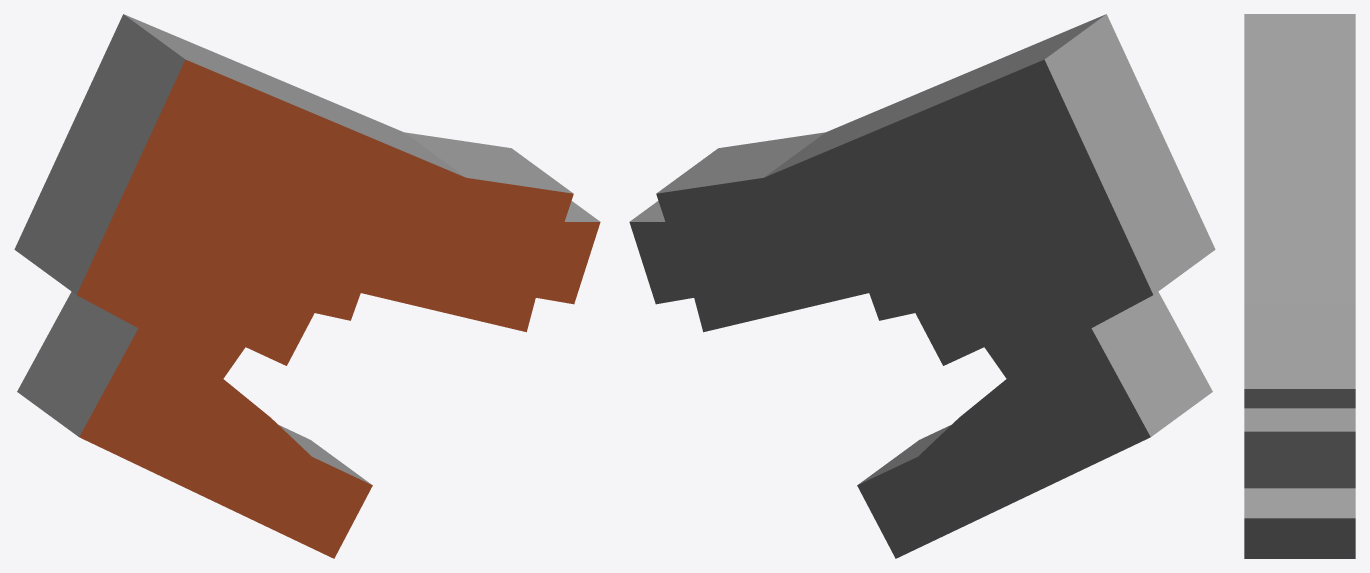
The model's file is construction_1963_assumed_A_Casa_h6m.obj.
3 renders of one model, left to right at view 1: azimuth 30°, elevation 25°; view 2: azimuth 150°, elevation 25°; view 3: azimuth 270°, elevation 25°, orthographic. The views are drawn at different scales.
Visible parts, largest first — view 1: construction_1963_assumed_A_Casa; view 2: construction_1963_assumed_A_Casa; view 3: construction_1963_assumed_A_Casa.
Boxes of the visible parts, box(x1,y1,x2,y2) form: construction_1963_assumed_A_Casa: box(14, 14, 600, 558); construction_1963_assumed_A_Casa: box(629, 14, 1215, 558); construction_1963_assumed_A_Casa: box(1244, 14, 1355, 558).
Bounding box in the file's own units: 29.19 × 28.52 × 6.
